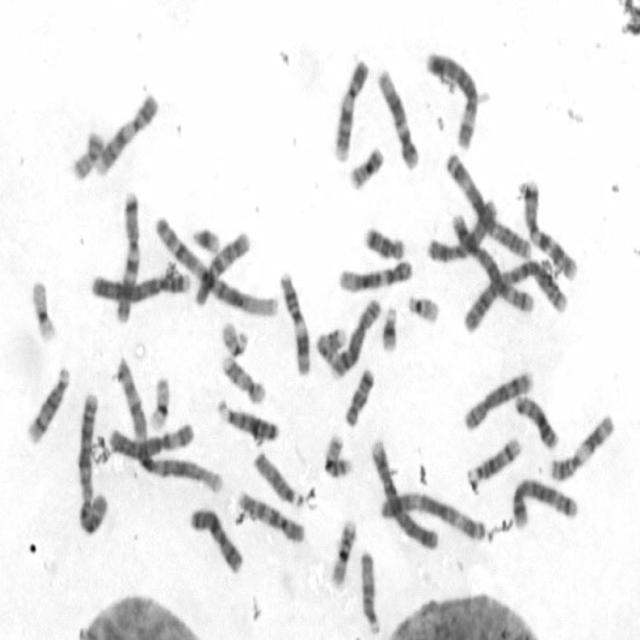A1: (111, 352, 225, 498), (150, 209, 280, 321)
A2: (459, 255, 568, 336), (73, 386, 110, 536)
A3: (441, 145, 534, 263), (378, 487, 488, 544)
B4: (367, 433, 440, 552), (86, 263, 192, 306)
B5: (450, 209, 536, 316), (509, 472, 581, 531)
C10: (192, 225, 253, 308), (234, 484, 307, 546)
C11: (545, 408, 616, 484), (275, 268, 312, 376)
C12: (373, 62, 421, 172), (334, 255, 416, 294)
C6: (422, 46, 480, 151), (106, 416, 195, 462)
C7: (518, 173, 580, 282), (112, 182, 142, 326)
C8: (327, 292, 383, 381), (460, 365, 535, 431)
C9: (93, 86, 162, 178), (332, 54, 370, 163)
D13: (511, 389, 561, 452), (214, 395, 281, 442)
D14: (23, 362, 72, 446), (464, 431, 522, 486)
D15: (250, 447, 306, 509), (356, 544, 383, 638)
E16: (327, 515, 358, 588), (321, 429, 355, 479)
E17: (218, 348, 268, 405), (313, 322, 347, 362)
E18: (342, 362, 377, 428), (360, 220, 407, 262)
F19: (27, 272, 59, 344), (146, 370, 172, 432)
F20: (67, 124, 107, 182), (346, 139, 386, 192)
G21: (188, 222, 222, 255), (378, 300, 399, 353)
G22: (404, 287, 441, 325), (218, 316, 250, 358)
X: (424, 196, 498, 264), (187, 502, 246, 575)
